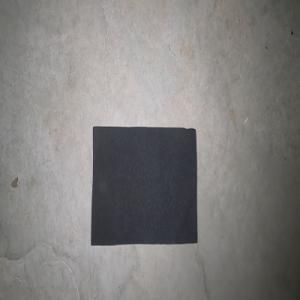PaintChip: (90, 126, 197, 245)
